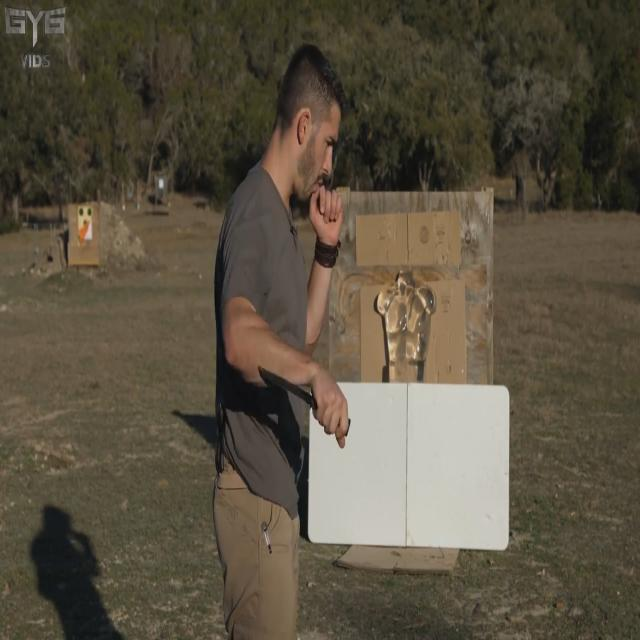knife: (249, 363, 329, 426)
